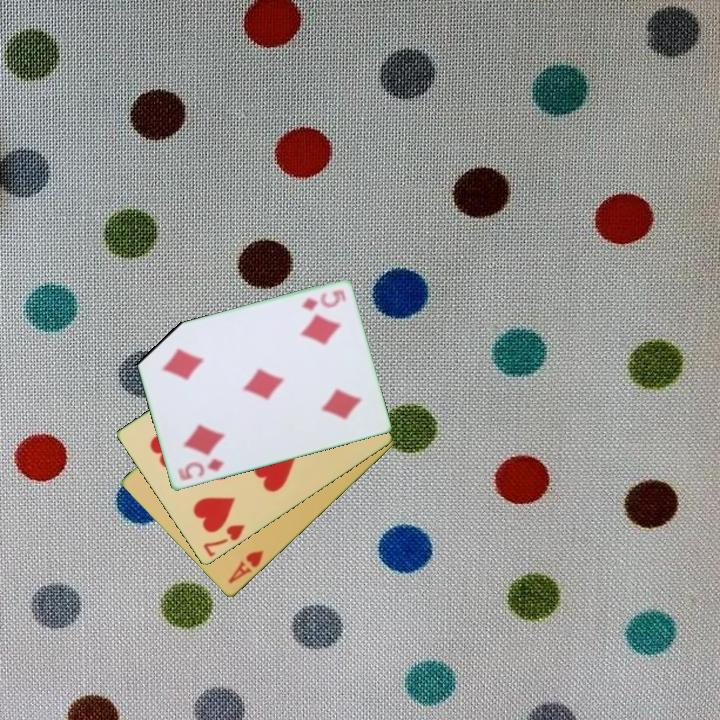5d: (174, 456, 227, 484), (297, 290, 343, 314)
7h: (199, 521, 248, 560)
Ah: (225, 547, 267, 587)
